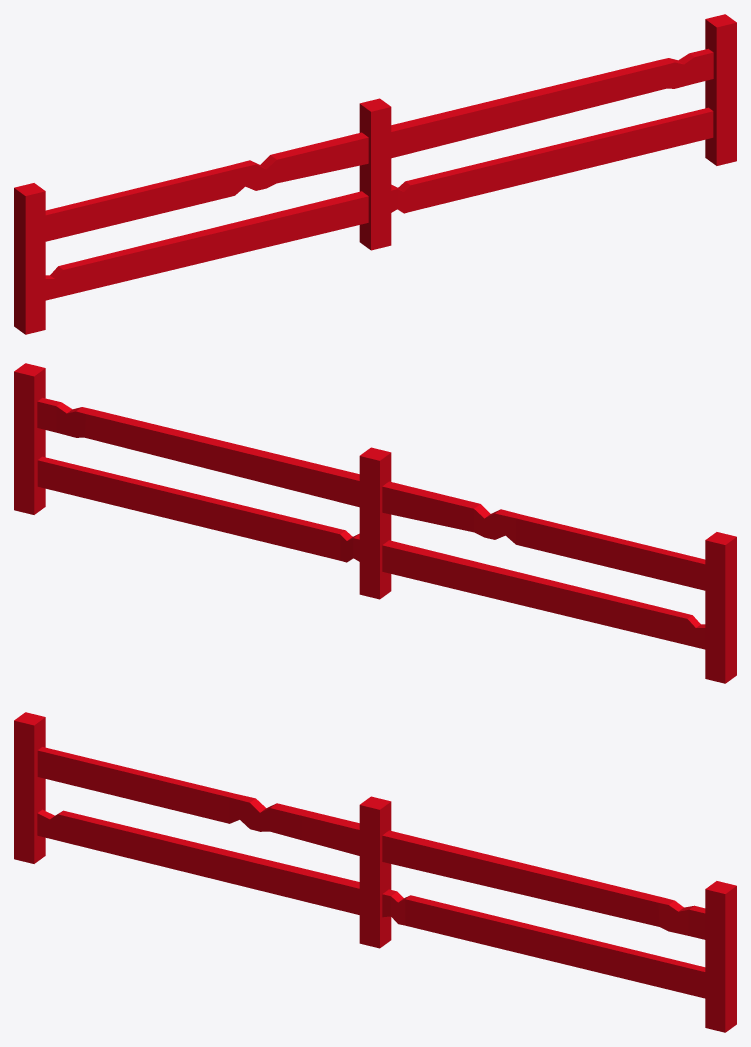
Rendered from SM_Fence_Wood.fbx.
3 renders of one model, top to bottom at view 1: azimuth 30°, elevation 25°; view 2: azimuth 150°, elevation 25°; view 3: azimuth 330°, elevation 25°, orthographic.
Visible parts, largest first — view 1: SM_Fence_Wood; view 2: SM_Fence_Wood; view 3: SM_Fence_Wood.
Boxes of the visible parts, x1,y1,x2,y2 form: SM_Fence_Wood: (14, 14, 736, 334); SM_Fence_Wood: (14, 363, 736, 683); SM_Fence_Wood: (14, 712, 736, 1032).
Bounding box in the file's own units: 265 × 49.41 × 7.45.
